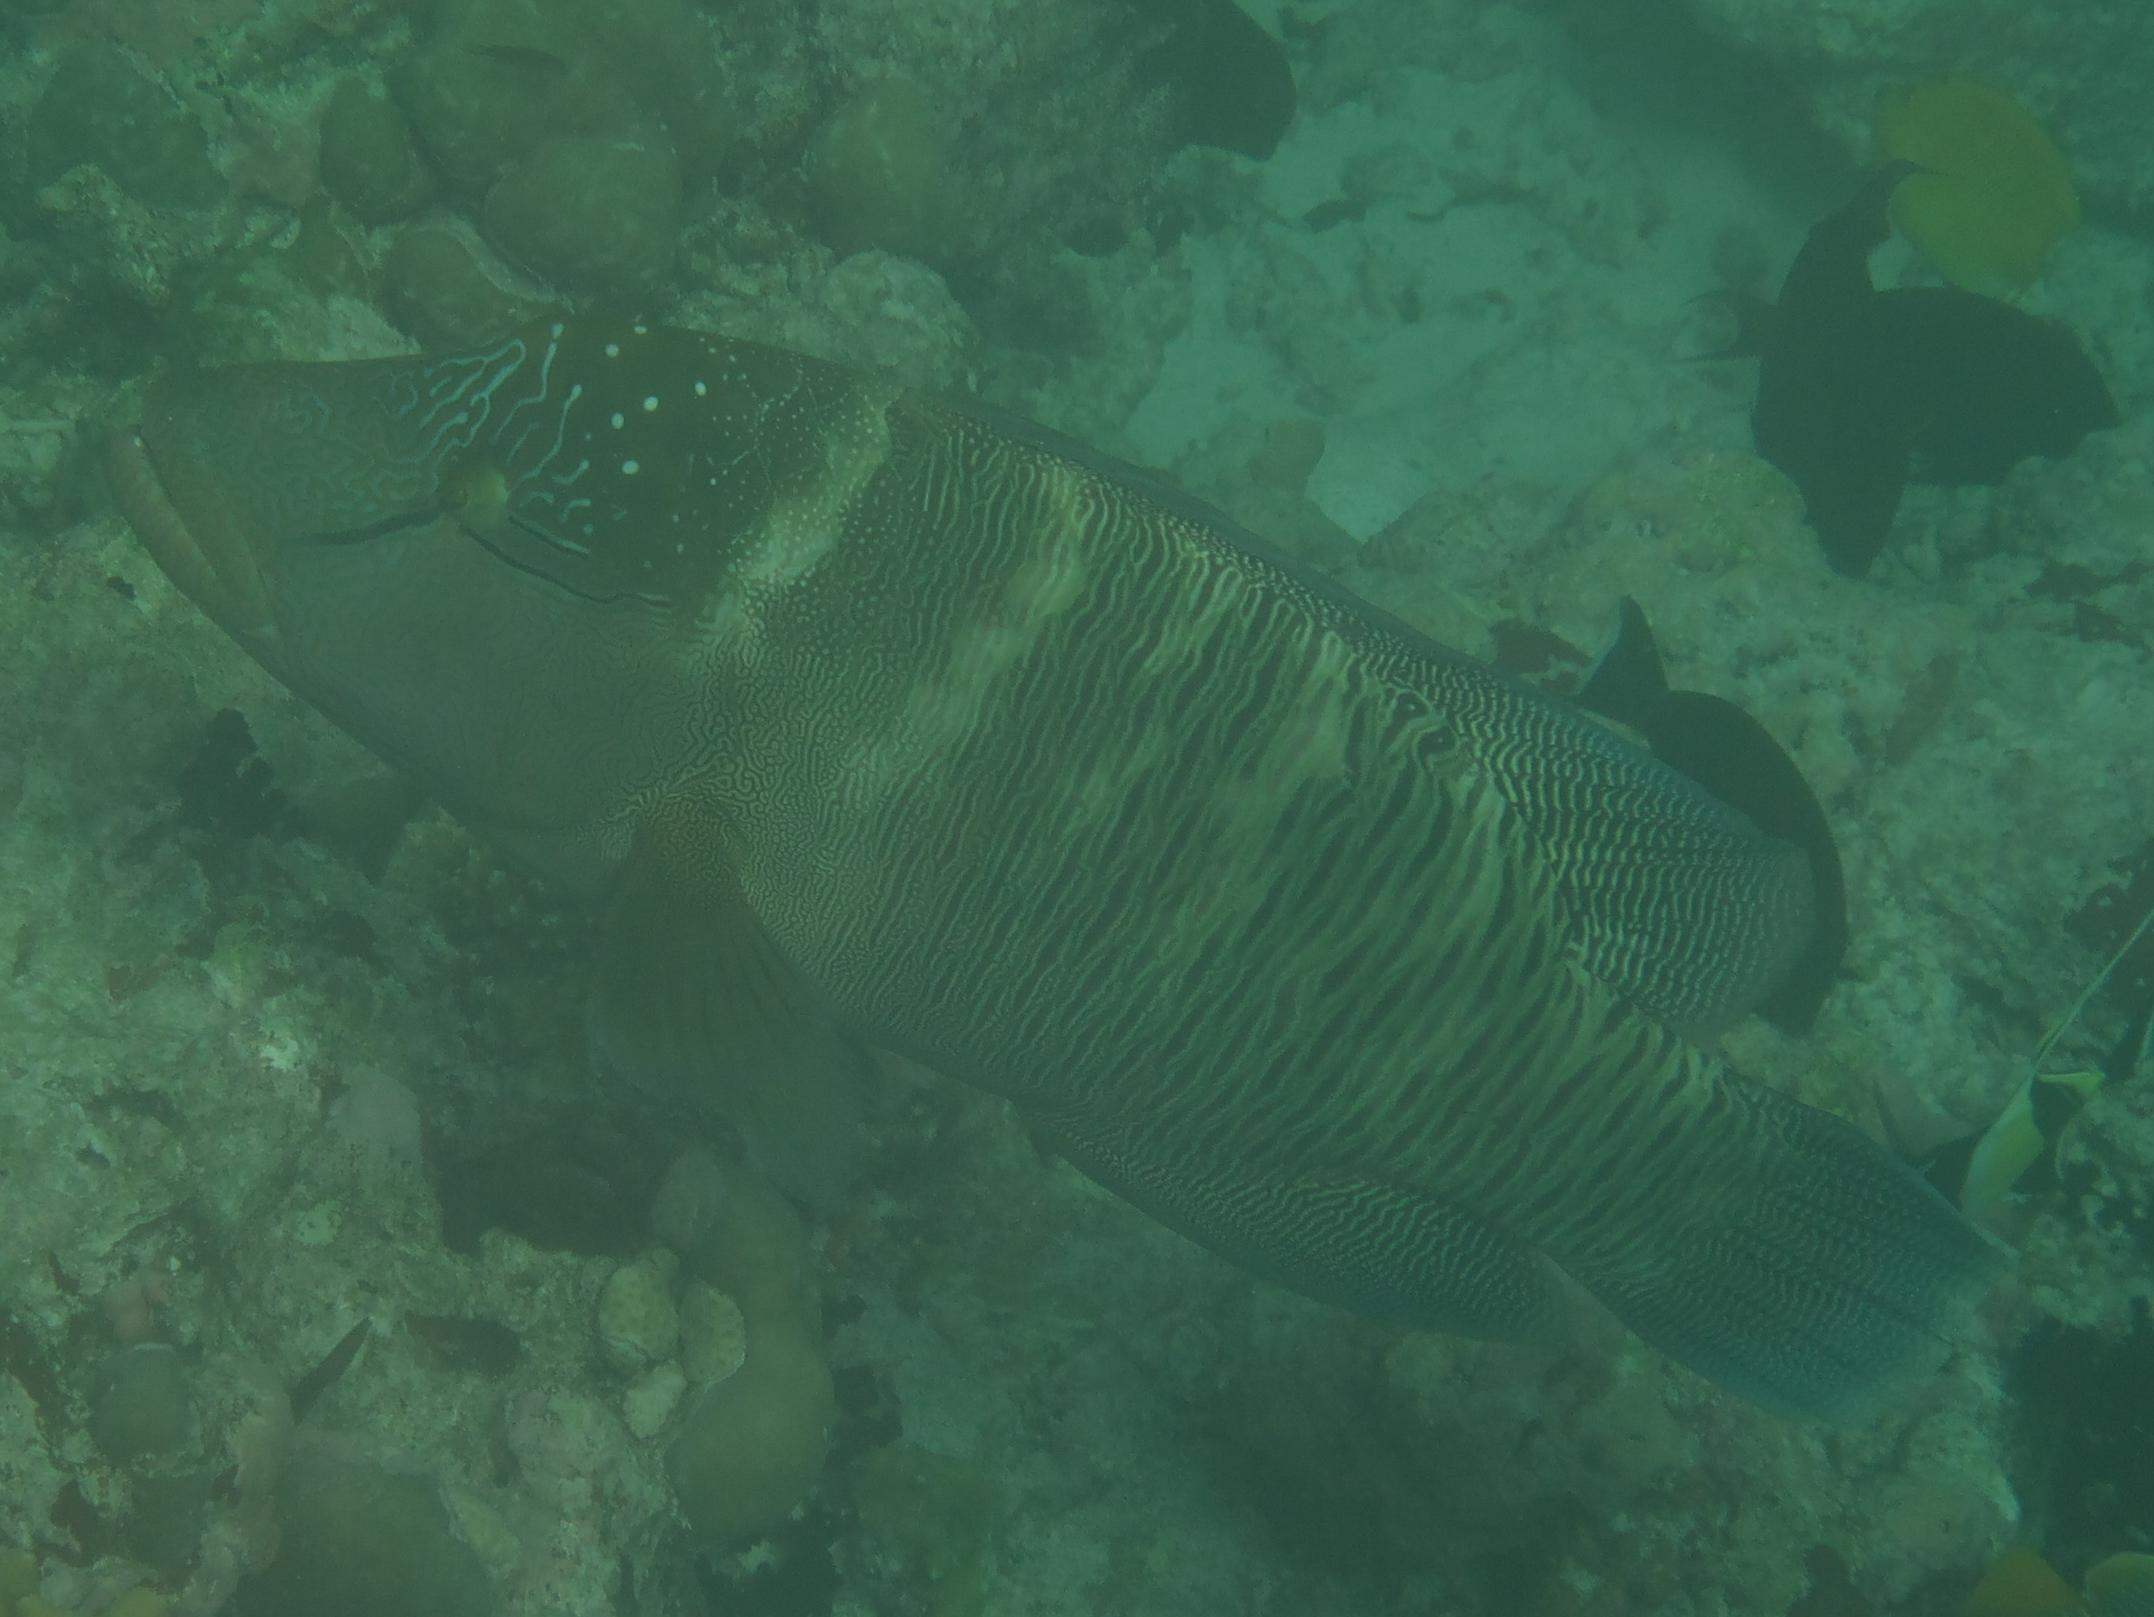Fish: (68, 187, 2045, 1481)
